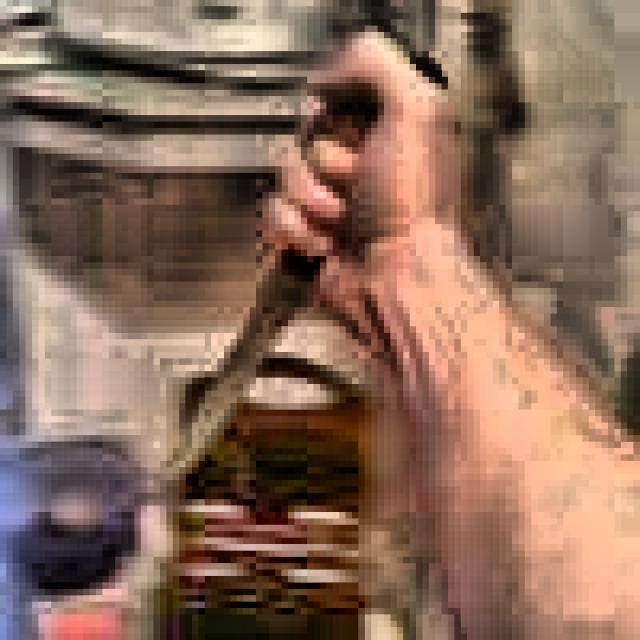knife: (156, 59, 450, 508)
